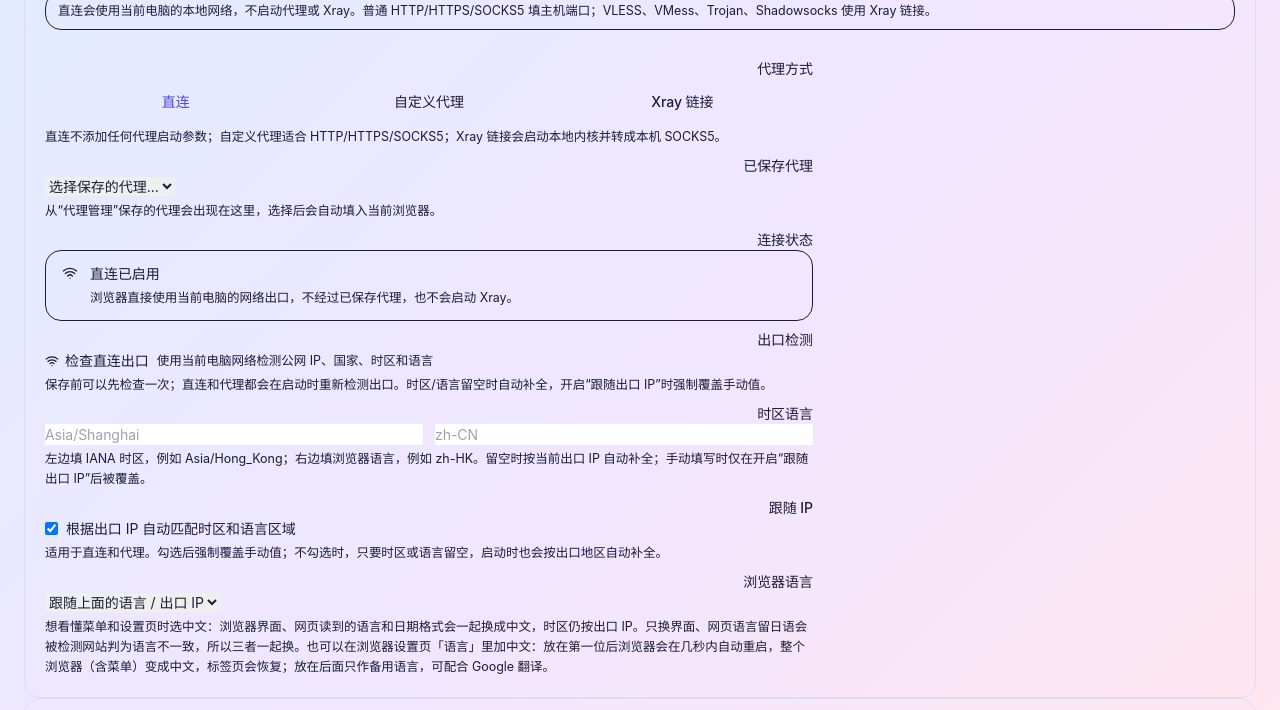
Test: ProfileForm review warnings › warns that a rotating exit IP breaks the launch-time timezone
(page scrolled)
Step 1. Click the button "检查直连出口" → click(97, 360), box 45,350 -> 149,371
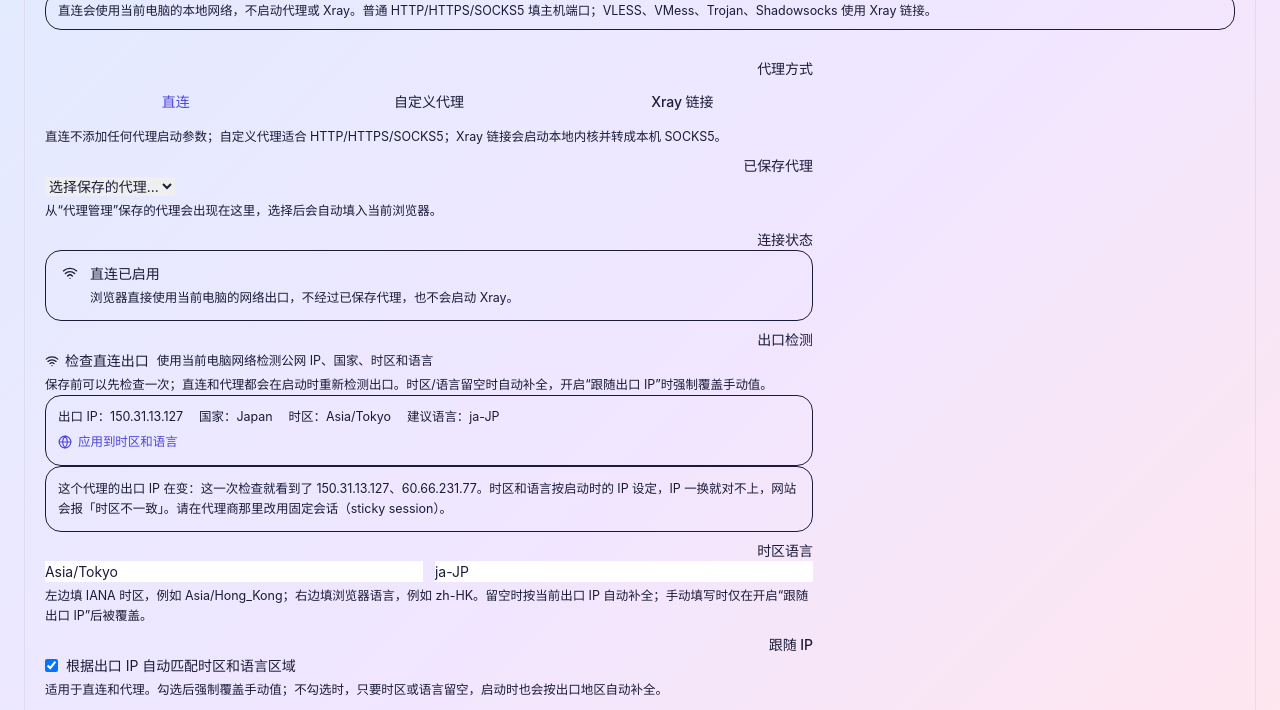
Result: the text with test id "rotating-ip-warning" shows "150.31.13.127、60.66.231.77" at 58,480 -> 796,516
Result: the text with test id "rotating-ip-warning" shows "固定会话" at 58,480 -> 796,516
